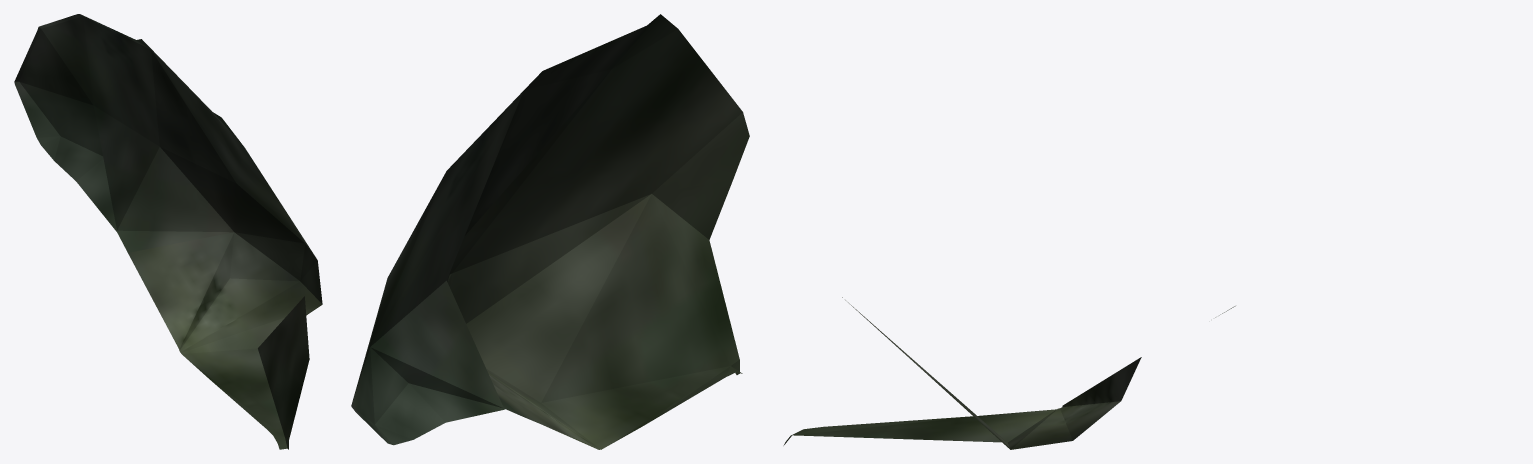
3 renders of one model, left to right at view 1: azimuth 30°, elevation 25°; view 2: azimuth 150°, elevation 25°; view 3: azimuth 270°, elevation 25°, orthographic. The views are drawn at different scales.
Size of the model in its own units: 0.2741 by 0.6418 by 1.01.
Materials: 1 (1 with a texture image).
